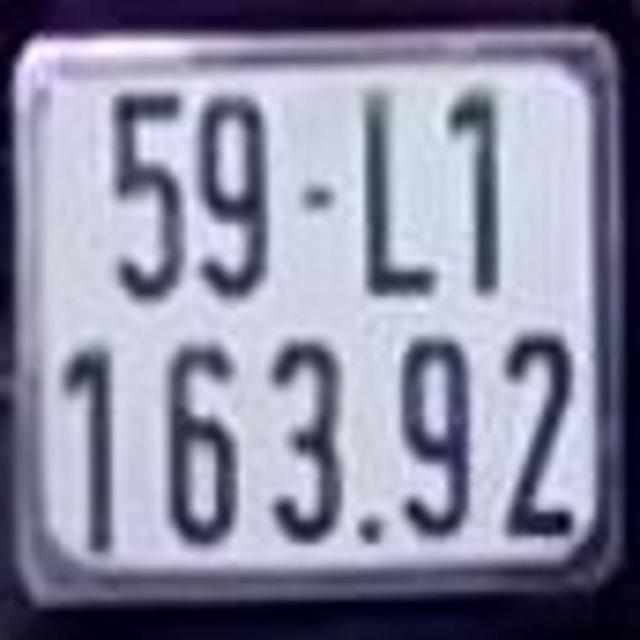1: (48, 327, 132, 548), (444, 66, 512, 303)
2: (494, 320, 584, 538)
3: (267, 332, 350, 548)
5: (100, 78, 187, 302)
6: (154, 322, 241, 543)
9: (189, 77, 272, 306), (388, 319, 474, 539)
L: (344, 72, 440, 299)
